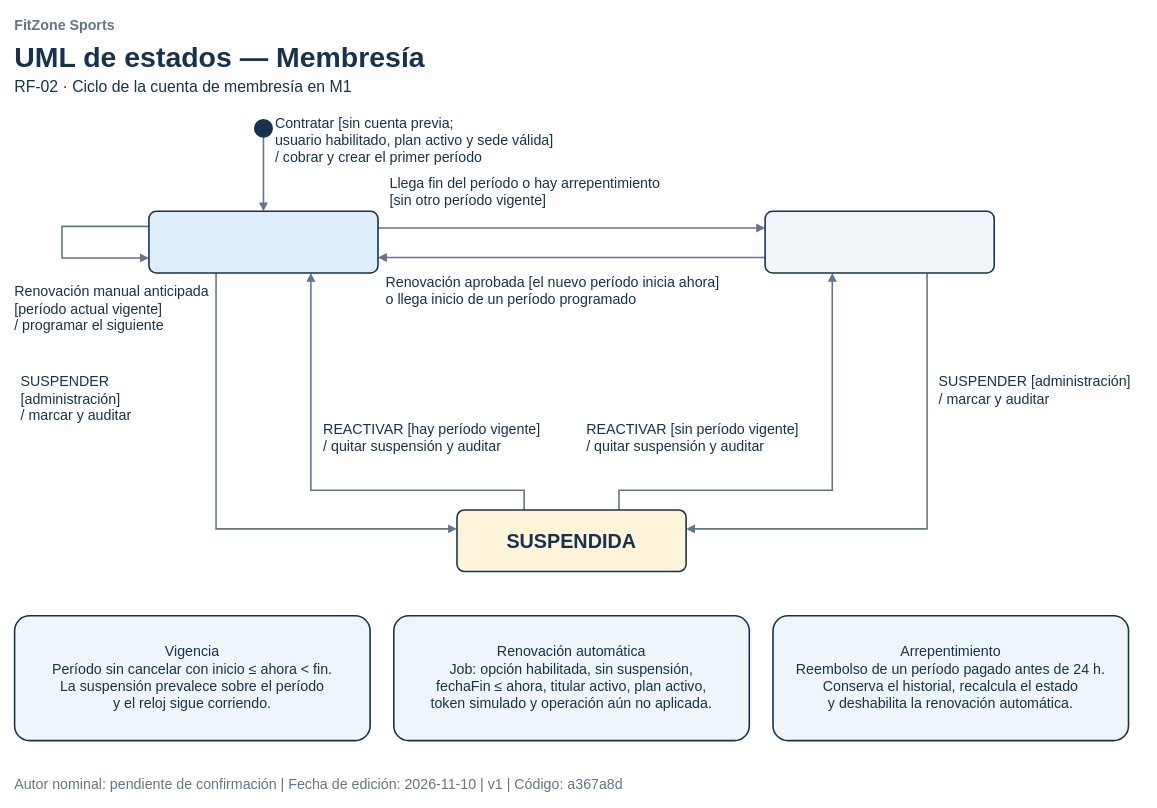
Some shapes in this 1157 by 808 pixel diagram are drawn without their labels. The centre of each missing label's shape, as x and y in pixels:
ACTIVA: the point at 263,241
VENCIDA: the point at 879,241
